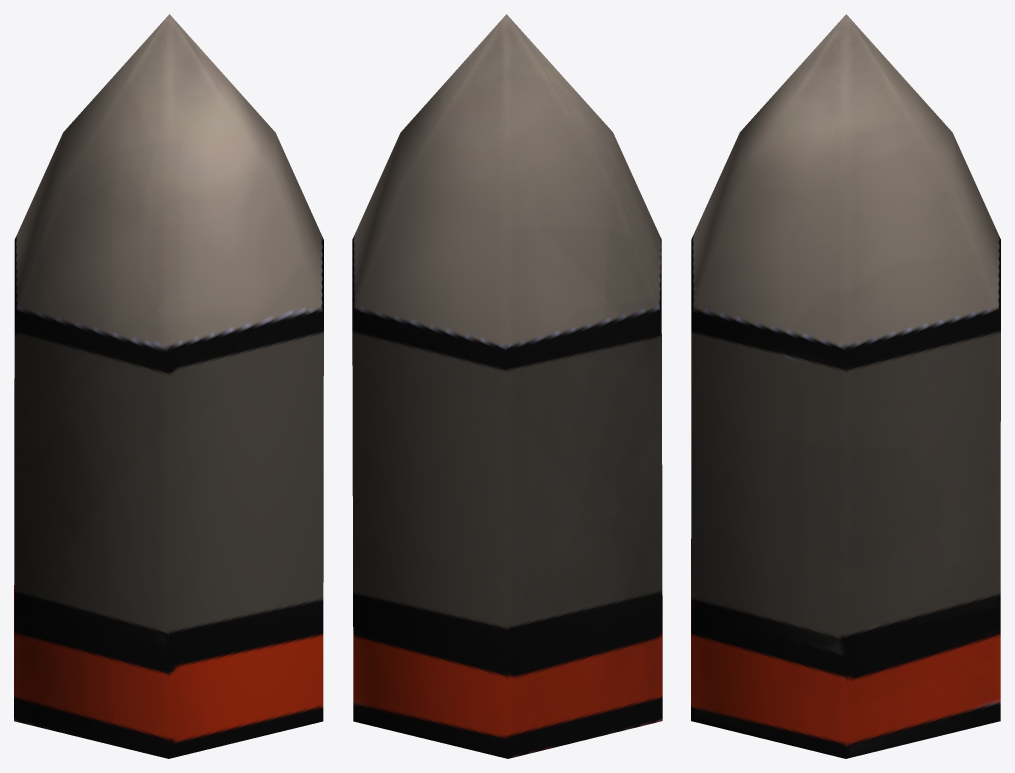
Rendered from Bullet_Heavy_01.FBX.
3 views of the same model, side by side, from view 1: azimuth 30°, elevation 25°; view 2: azimuth 150°, elevation 25°; view 3: azimuth 270°, elevation 25° (orthographic).
Visible parts, largest first — view 1: Bullet_Heavy_01; view 2: Bullet_Heavy_01; view 3: Bullet_Heavy_01.
Part boxes in pixels (box(x1,y1,x2,y2)): Bullet_Heavy_01: box(14, 14, 323, 758); Bullet_Heavy_01: box(352, 14, 662, 758); Bullet_Heavy_01: box(691, 14, 1000, 758).
Size of the model in its own units: 12.3 by 10.64 by 25.38.
